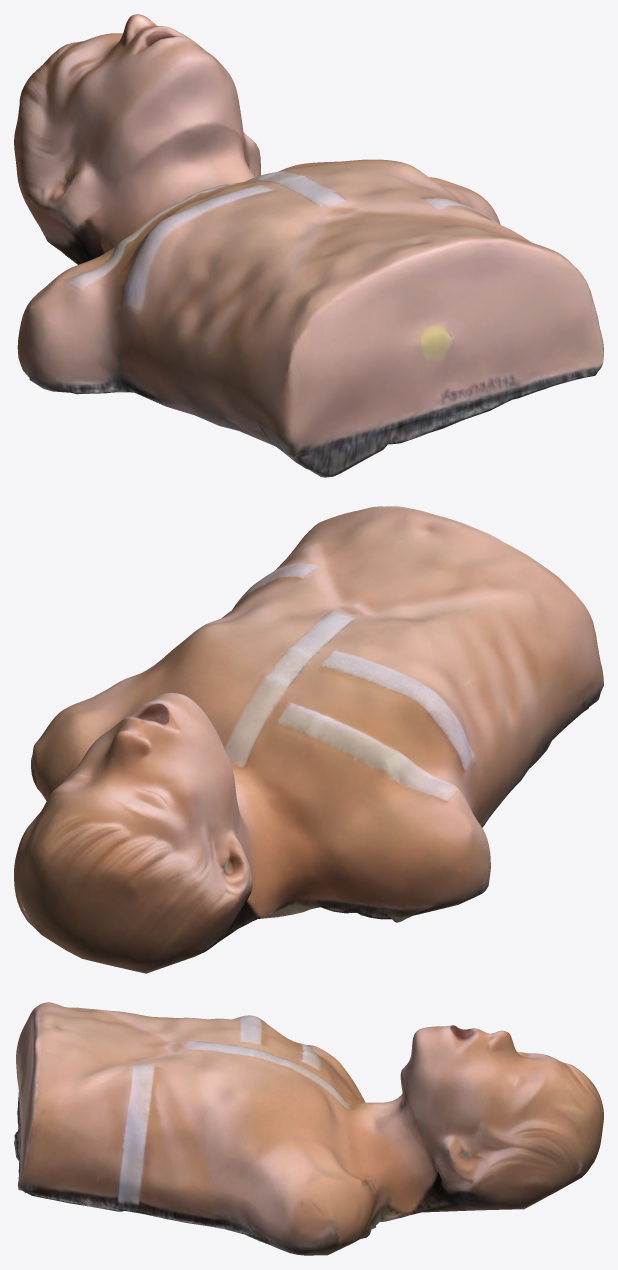
File: mannequin.glb
The picture shows the model from 3 angles, top to bottom: view 1: azimuth 30°, elevation 25°; view 2: azimuth 150°, elevation 25°; view 3: azimuth 270°, elevation 25°; orthographic projection. The views are drawn at different scales.
Parts seen in each view (by area): view 1: E3A720C0_17A2_4863_AAAA_A710D22D5C4F; view 2: E3A720C0_17A2_4863_AAAA_A710D22D5C4F; view 3: E3A720C0_17A2_4863_AAAA_A710D22D5C4F.
Boxes of the visible parts, x1,y1,x2,y2 form: E3A720C0_17A2_4863_AAAA_A710D22D5C4F: (14, 14, 603, 477); E3A720C0_17A2_4863_AAAA_A710D22D5C4F: (14, 506, 603, 973); E3A720C0_17A2_4863_AAAA_A710D22D5C4F: (14, 1002, 603, 1255).
Size of the model in its own units: 0.5457 by 0.2585 by 0.8129.
1 material, 1 textured.
